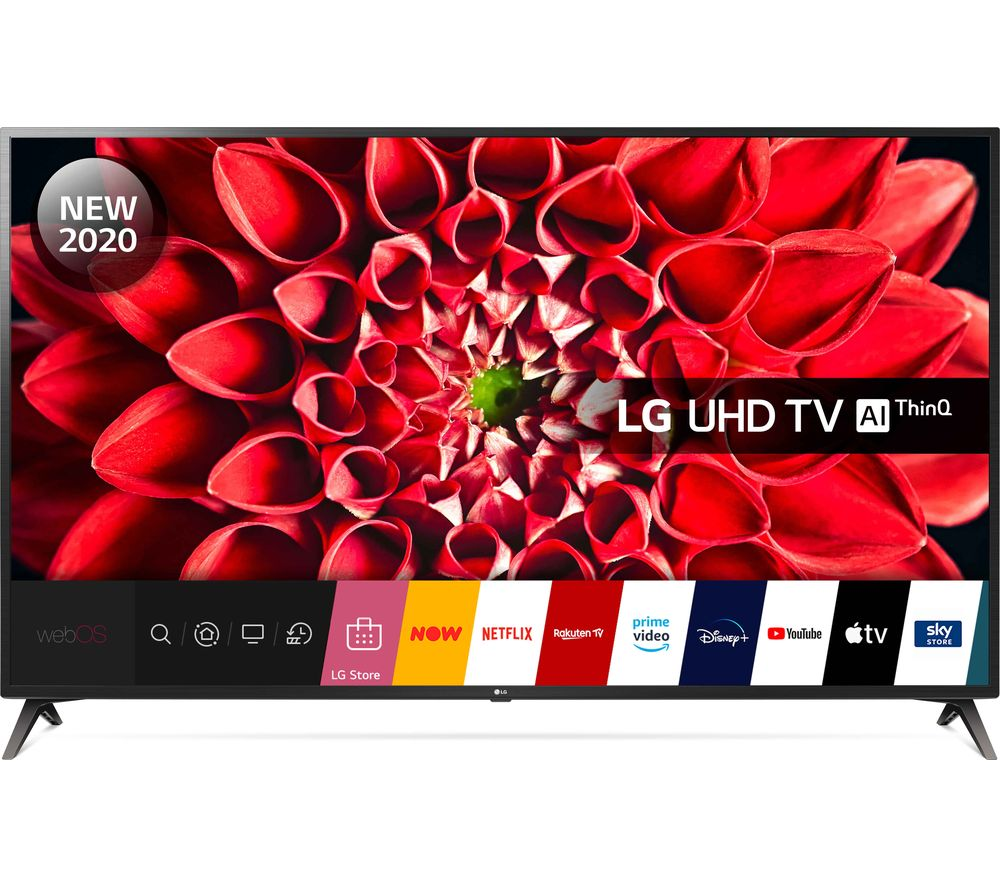tv: (13, 122, 1000, 760)
